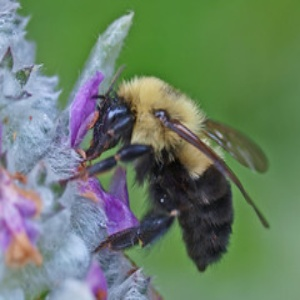bee: (80, 65, 275, 285)
